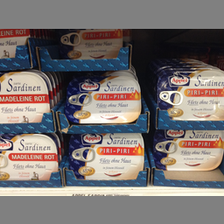fish: (67, 74, 141, 124), (66, 134, 144, 180), (156, 70, 224, 121), (153, 128, 224, 171), (1, 73, 50, 122), (1, 134, 60, 174)
